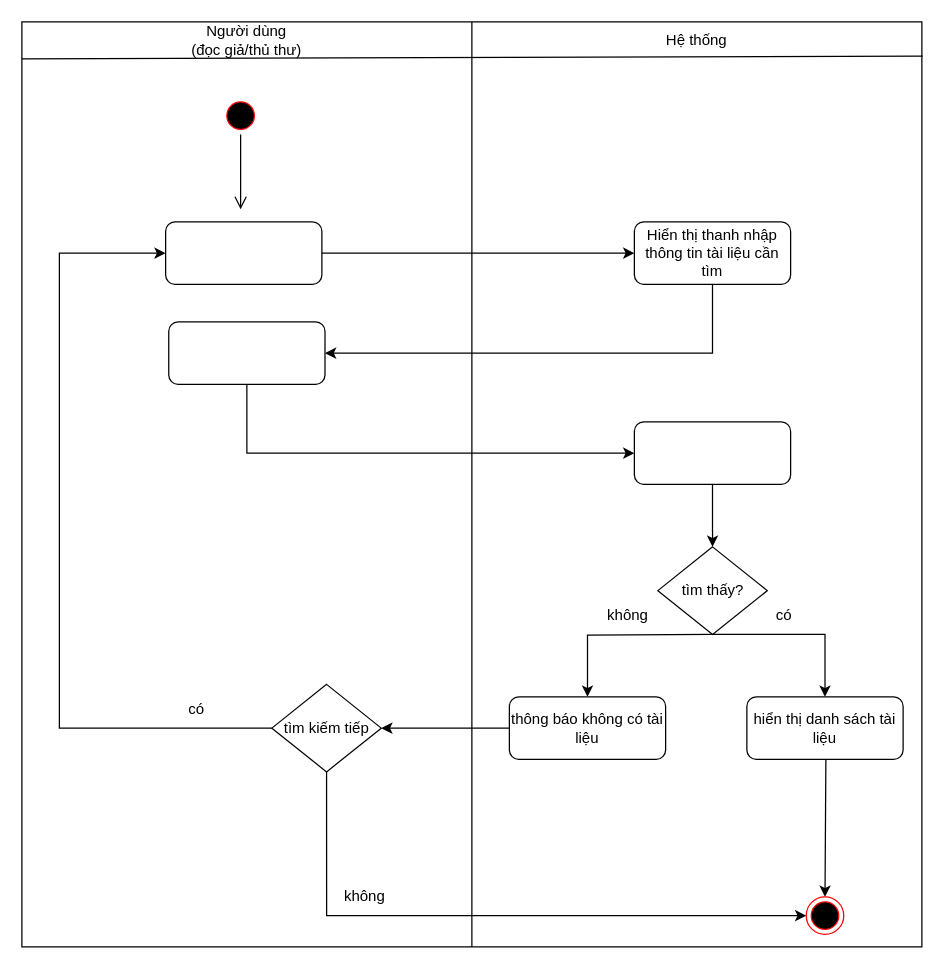
Some shapes in this 946 by 970 pixel diagram are drawn without their labels. Each missing label, with the centre of its shape:
"Kiểm tra thông tin tài liệu cần tìm" belongs at [712,452].
"Người dùng chọn tài liệu cần tìm" belongs at [243,252].
"Người dùng nhập thông tin sách cần tìm" belongs at [246,352].
